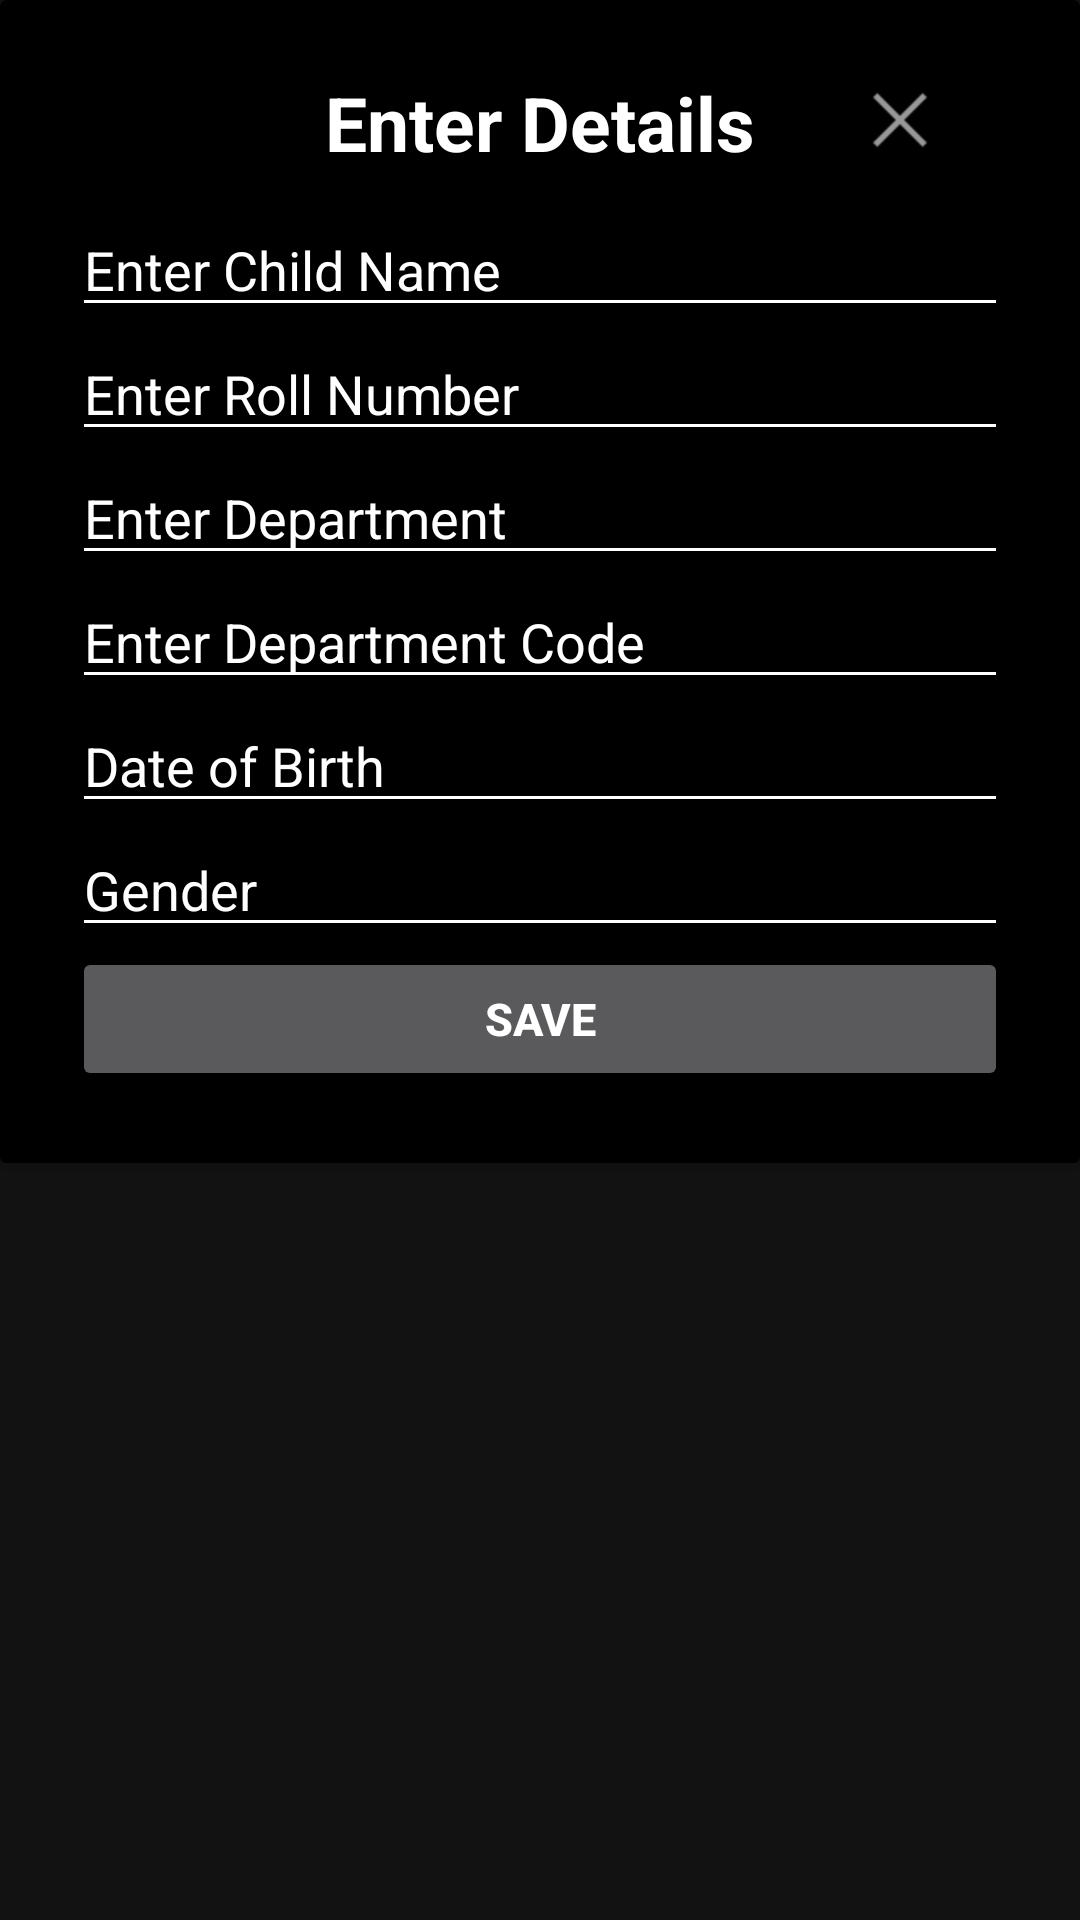

Icons on this 1080x1920 Android screen, each with its box as (x1, y1, x2, y2):
close clear cancel: (873, 93, 927, 147)
